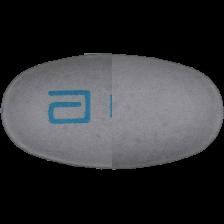43353-310: (0, 0, 224, 224)
